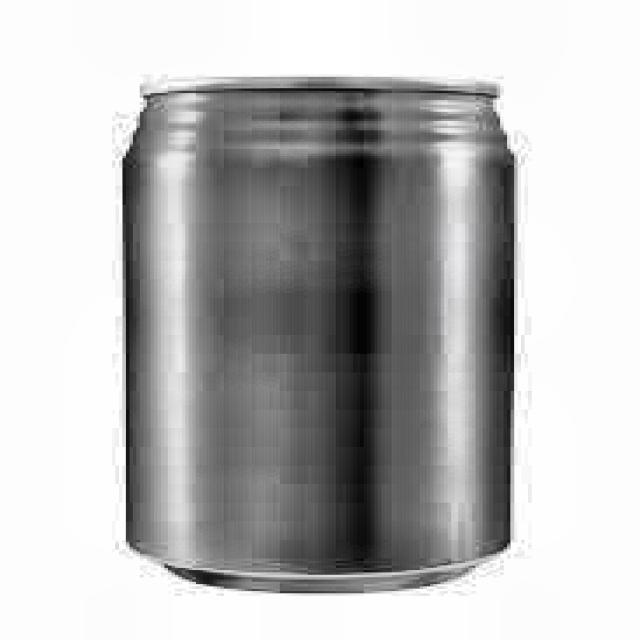can: (106, 63, 538, 604)
